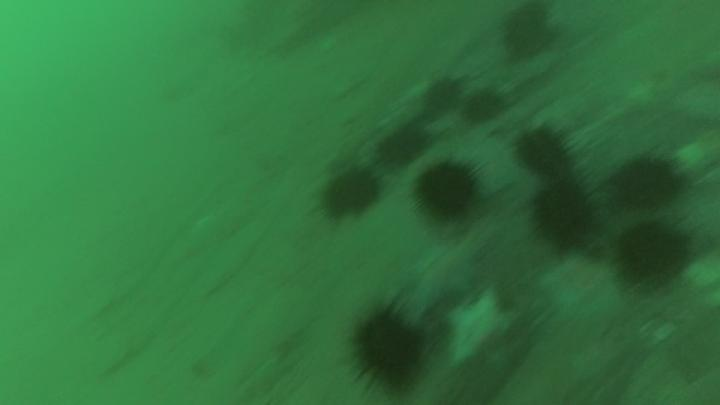echinus: (336, 286, 434, 403), (612, 144, 698, 215), (607, 218, 693, 289), (411, 157, 488, 230), (521, 180, 607, 243), (315, 159, 384, 225), (511, 121, 585, 182), (366, 118, 434, 175), (499, 9, 566, 65), (412, 76, 466, 118), (458, 85, 505, 126)
starfish: (439, 283, 522, 370), (537, 248, 625, 324)
